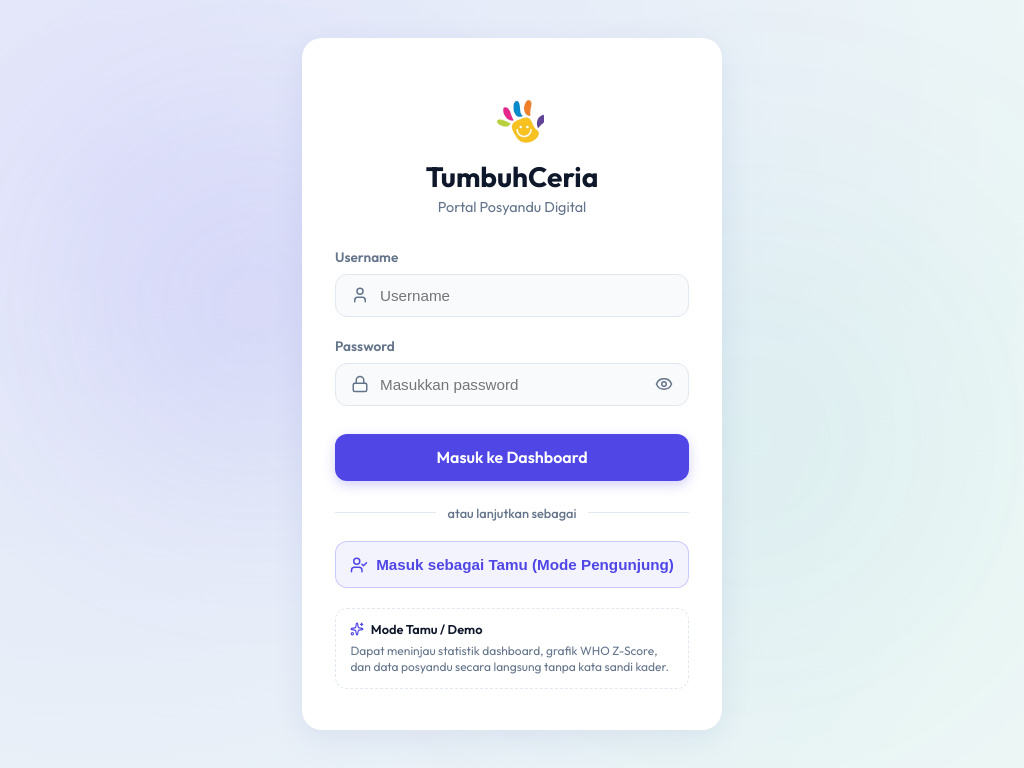
Test: Login Component - Tamu / Guest Login › should display error if guest login fails
Click the button "Masuk sebagai Tamu (Mode Pengunjung)".
click(512, 564)  # box x1=335 y1=541 x2=689 y2=588
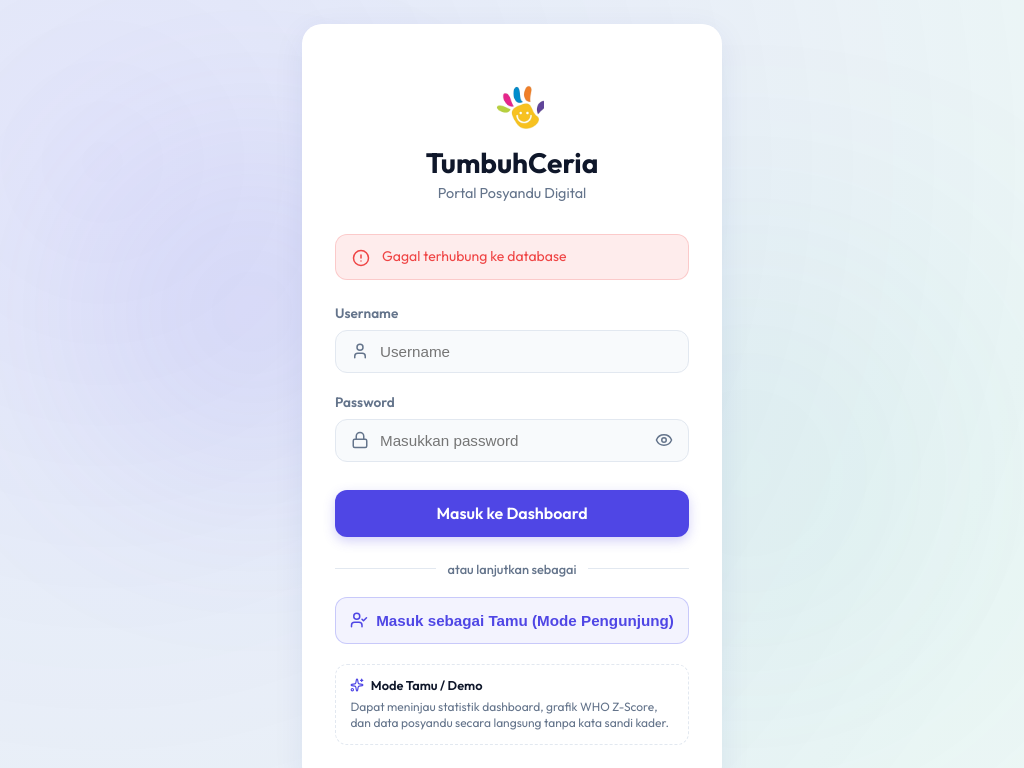
Now the text "Gagal terhubung ke database" is shown, box x1=382 y1=247 x2=566 y2=265
